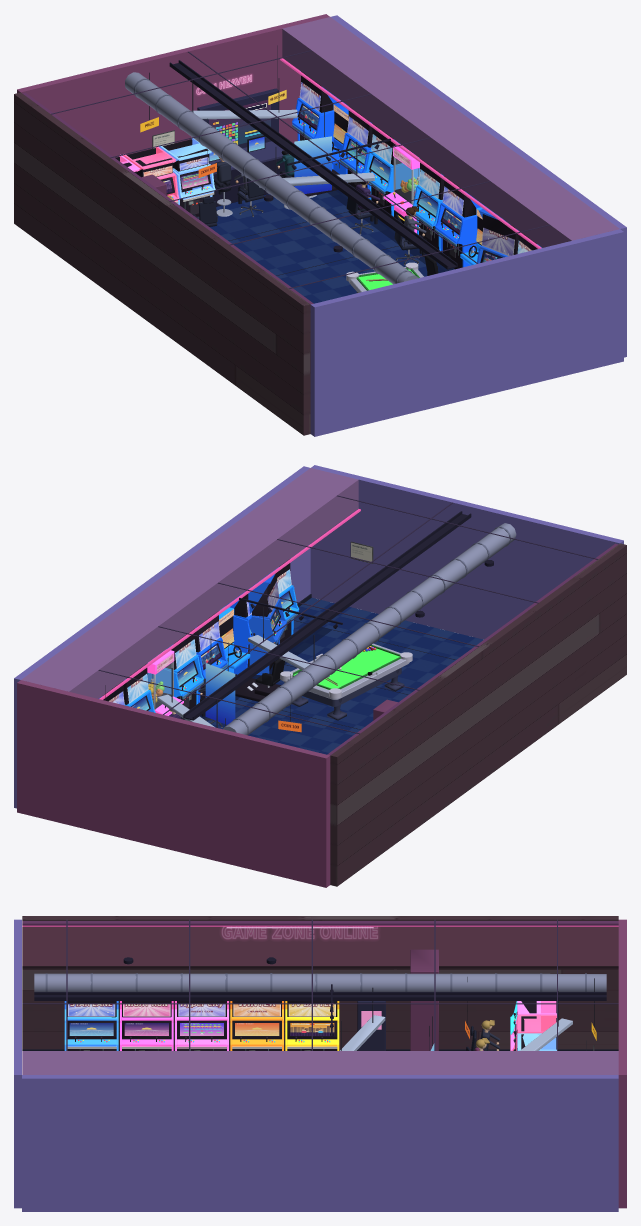
File: game-room-1.lod1.glb
The picture shows the model from 3 angles, top to bottom: view 1: azimuth 30°, elevation 25°; view 2: azimuth 150°, elevation 25°; view 3: azimuth 270°, elevation 25°; orthographic projection. The views are drawn at different scales.
Parts seen in each view (by area): view 1: object 35, object 34, object 40, object 36, object 31, object 183, object 59, object 185, object 41, object 89, spot:arcade-claw, object 51 (+15 smaller); view 2: object 36, object 34, object 35, object 40, object 31, object 183, object 185, object 59, object 41, spot:arcade-claw, object 81, object 142 (+9 smaller); view 3: object 35, object 37, object 34, object 40, object 183, object 185, object 59, object 43, spot:arcade-coin, object 36, object 41, object 48 (+21 smaller).
Part boxes in pixels (x1=…): object 35: x1=310, y1=15, x2=626, y2=436; object 34: x1=14, y1=92, x2=310, y2=435; object 40: x1=282, y1=17, x2=619, y2=247; object 36: x1=17, y1=14, x2=329, y2=157; object 31: x1=209, y1=190, x2=453, y2=303; object 183: x1=125, y1=72, x2=418, y2=284; object 59: x1=115, y1=71, x2=537, y2=268; object 185: x1=169, y1=60, x2=457, y2=269; object 41: x1=51, y1=50, x2=549, y2=288; object 89: x1=292, y1=71, x2=484, y2=267; spot:arcade-claw: x1=413, y1=158, x2=443, y2=250; object 51: x1=193, y1=109, x2=374, y2=187; object 36: x1=17, y1=680, x2=330, y2=887; object 34: x1=330, y1=543, x2=626, y2=886; object 35: x1=14, y1=465, x2=623, y2=808; object 40: x1=21, y1=468, x2=358, y2=698; object 31: x1=200, y1=598, x2=483, y2=754; object 183: x1=223, y1=523, x2=516, y2=734; object 185: x1=183, y1=511, x2=493, y2=720; object 59: x1=103, y1=559, x2=293, y2=710; object 41: x1=98, y1=495, x2=598, y2=734; spot:arcade-claw: x1=147, y1=628, x2=203, y2=718; object 81: x1=248, y1=566, x2=286, y2=675; object 142: x1=293, y1=648, x2=399, y2=689; object 35: x1=14, y1=919, x2=618, y2=1211; object 37: x1=22, y1=926, x2=618, y2=965; object 34: x1=22, y1=916, x2=618, y2=1049; object 40: x1=22, y1=1051, x2=618, y2=1074; object 183: x1=34, y1=973, x2=606, y2=991; object 185: x1=34, y1=957, x2=606, y2=1037; object 59: x1=67, y1=1001, x2=556, y2=1050; object 43: x1=22, y1=921, x2=618, y2=925; spot:arcade-coin: x1=230, y1=1001, x2=283, y2=1050; object 36: x1=618, y1=919, x2=626, y2=1208; object 41: x1=22, y1=919, x2=618, y2=1050; object 48: x1=410, y1=949, x2=438, y2=1050.
Size of the model in its own units: 9.4 by 3.6 by 15.
195 materials, 72 textured.
